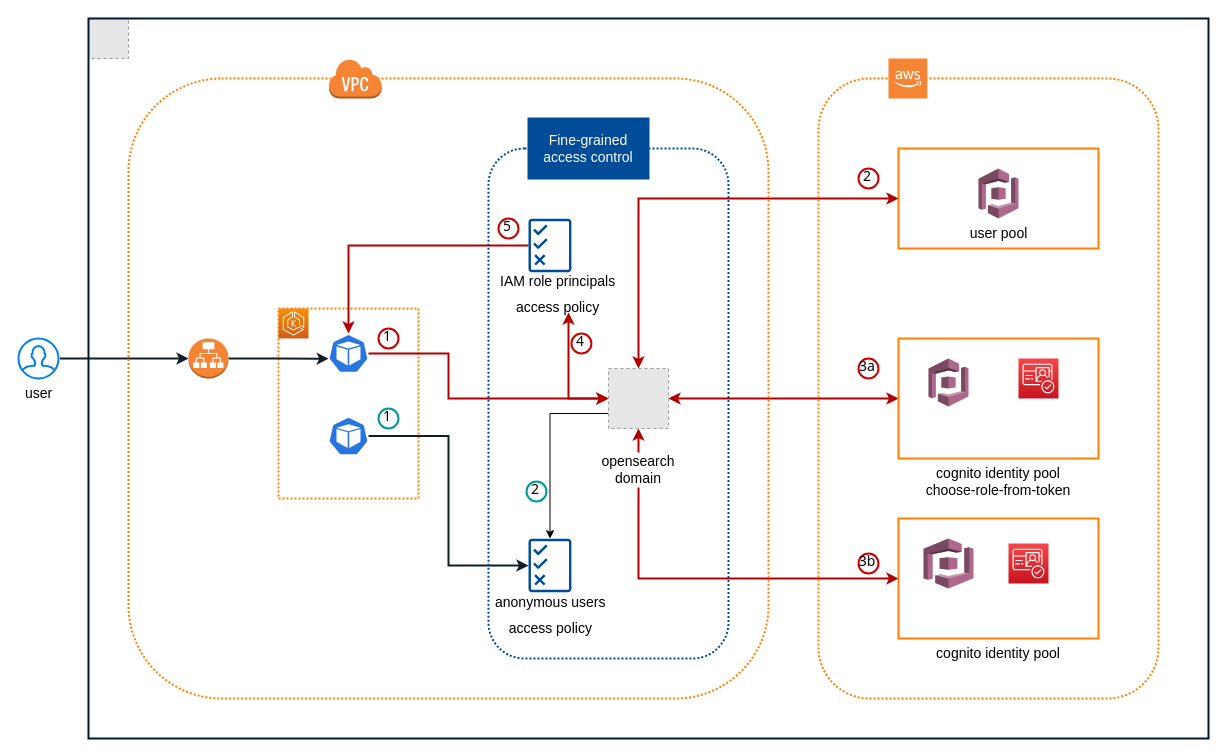
Some shapes in this 1226 by 756 pixel diagram are drawn without their labels. Grey dashed boxes stand in for pictures. The box of each missing label's shape, as (x1, y1, x2, y2) in pixels:
ALB: (188, 338, 228, 378)
authenticate and get tokens: (897, 147, 1099, 249)
Authenticated role: (1008, 542, 1048, 584)
event-exporter: (328, 415, 368, 456)
nginx: (328, 332, 368, 374)
opensearch admin group: (927, 357, 969, 407)
opensearch admin-auth-role: (1018, 358, 1058, 398)
